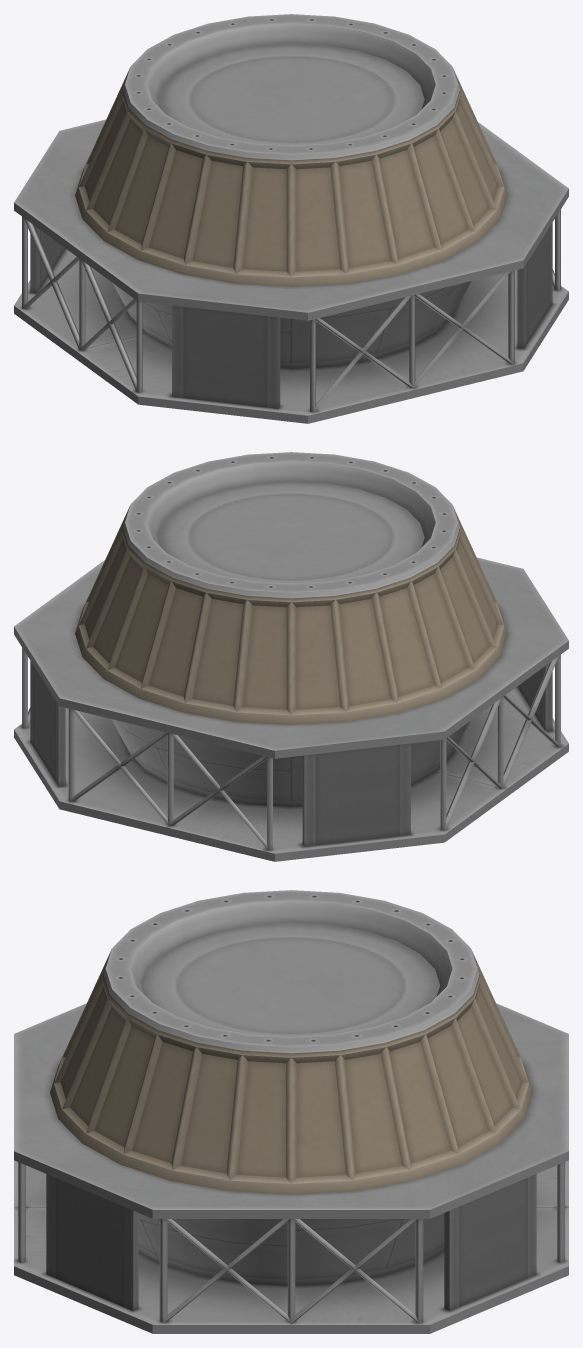
File: Libra_LFO_1.obj
3 renders of one model, top to bottom at view 1: azimuth 30°, elevation 25°; view 2: azimuth 150°, elevation 25°; view 3: azimuth 270°, elevation 25°, orthographic. The views are drawn at different scales.
Visible parts, largest first — view 1: Libra_LFO_1; view 2: Libra_LFO_1; view 3: Libra_LFO_1.
Boxes of the visible parts, <box> form: Libra_LFO_1: <box>14,14,568,423</box>; Libra_LFO_1: <box>14,452,568,861</box>; Libra_LFO_1: <box>14,890,568,1333</box>.
Size of the model in its own units: 1.4 by 0.69 by 1.4.
